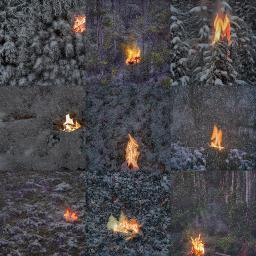Small fire: (107, 212, 144, 241), (212, 10, 234, 44), (123, 131, 141, 172), (56, 112, 86, 136), (183, 231, 209, 256), (121, 38, 145, 64), (206, 122, 226, 153), (70, 13, 88, 36), (63, 206, 80, 226)
